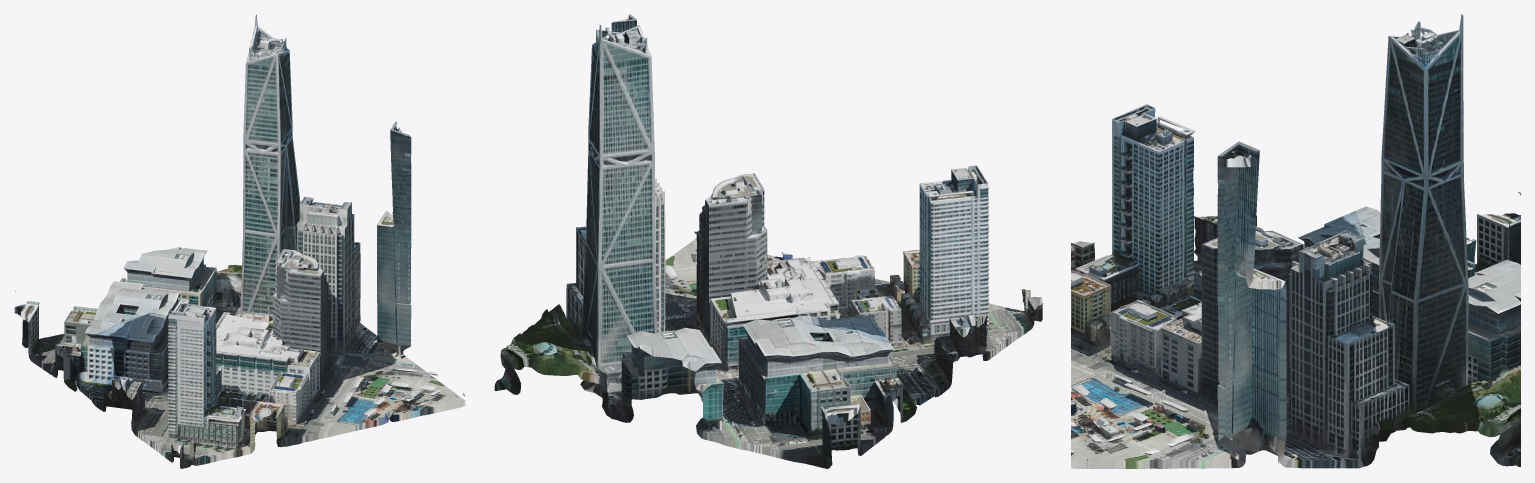
Rendered from z17-20973-50655-h0-yup-uvflip-v3-world.glb.
3 views of the same model, side by side, from view 1: azimuth 30°, elevation 25°; view 2: azimuth 150°, elevation 25°; view 3: azimuth 270°, elevation 25° (orthographic). The views are drawn at different scales.
Size of the model in its own units: 242 by 245 by 243.
1 material, 1 textured.
